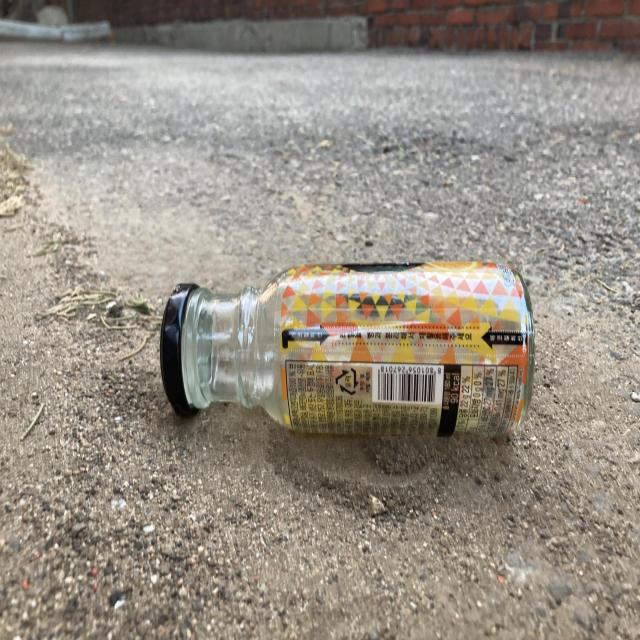glass: (160, 261, 536, 438)
